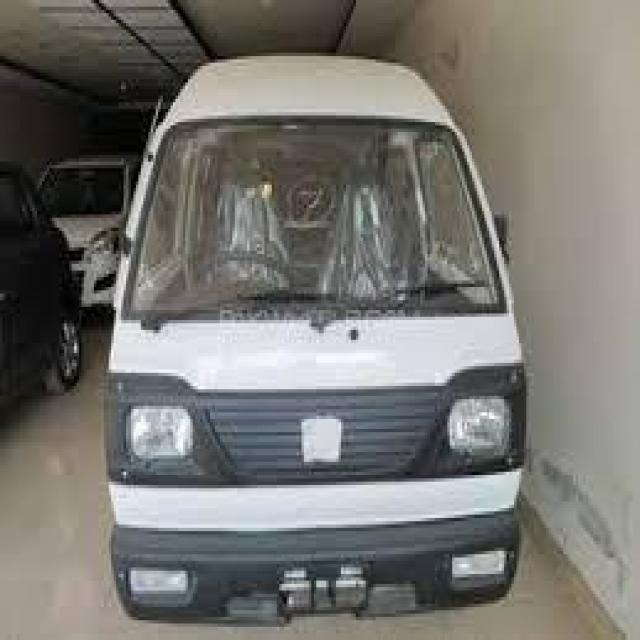Van: (109, 49, 529, 640)
